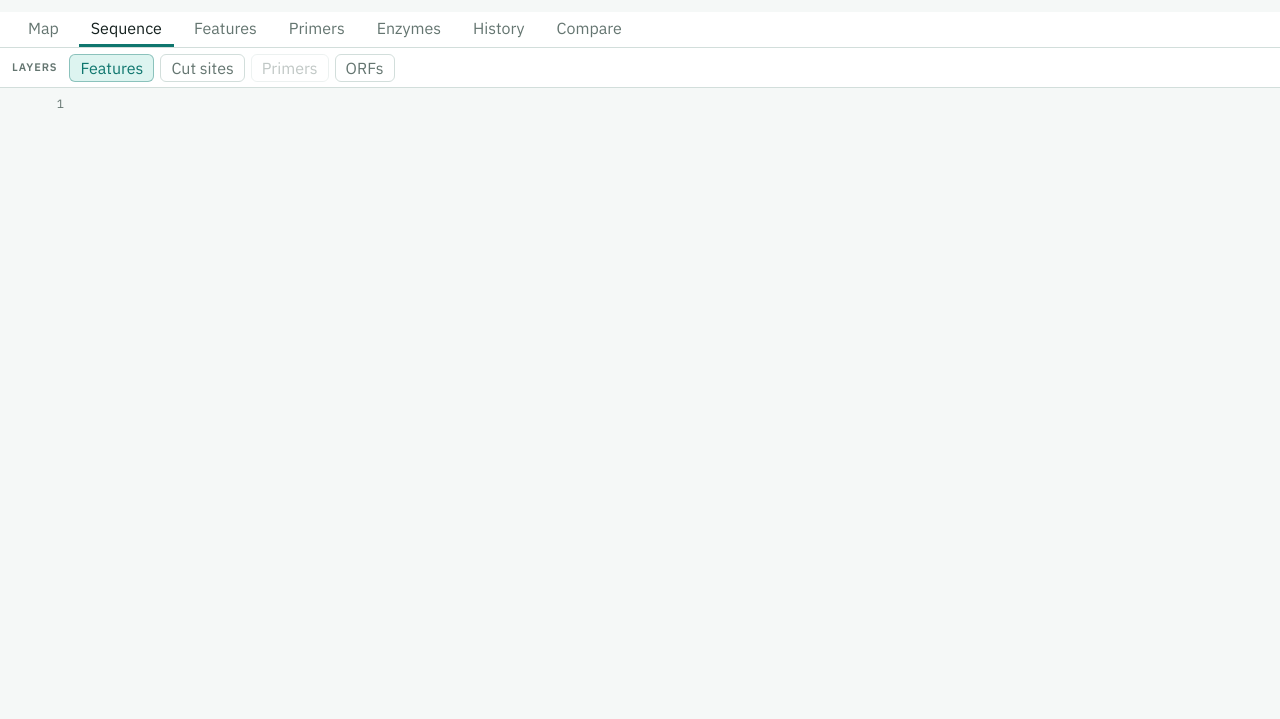
Test case: WorkspaceCenter View Switching › labels enzyme filters by class and site count without duplicate all controls
Click the tab "Enzymes" at (409, 29), box top-left (365, 11), bottom-right (453, 47)
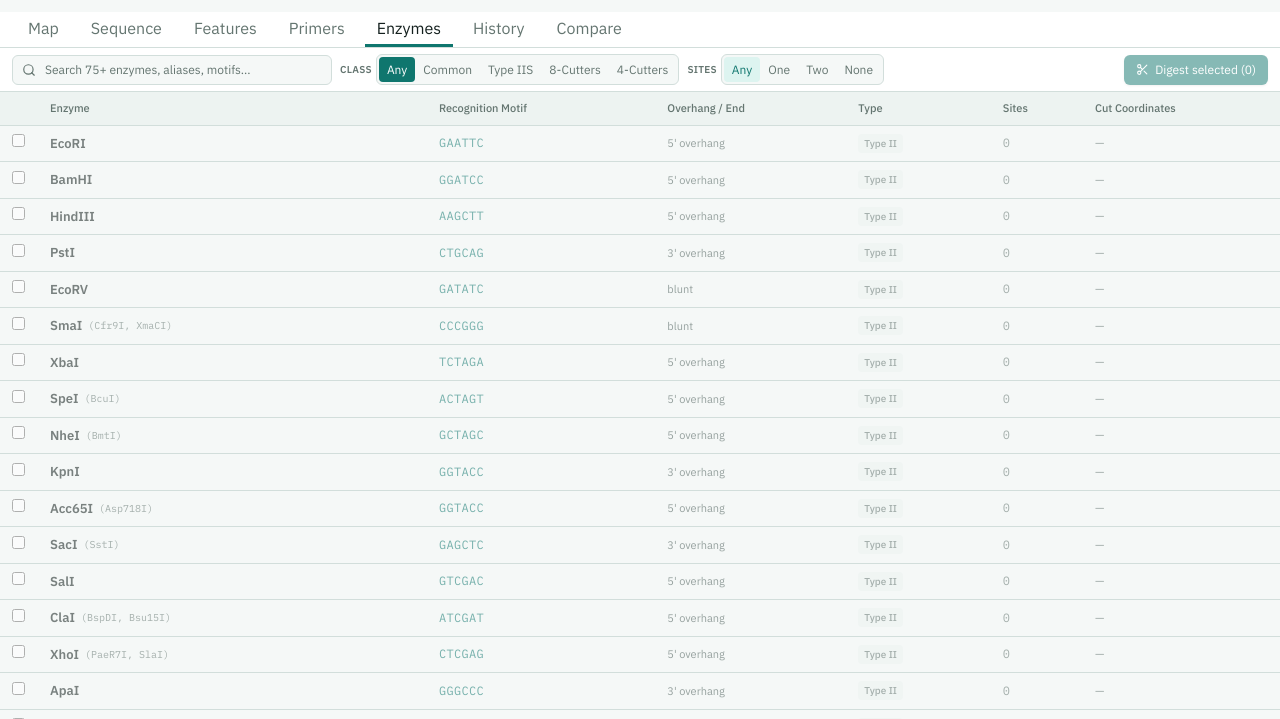
Check: the element named "Enzyme class" is shown, box top-left (340, 54), bottom-right (679, 85)
Check: the element named "Recognition site count" is shown, box top-left (687, 54), bottom-right (884, 85)
Check: the number of buttons "Any" is 2, box top-left (379, 57), bottom-right (415, 82); top-left (724, 57), bottom-right (760, 82)
